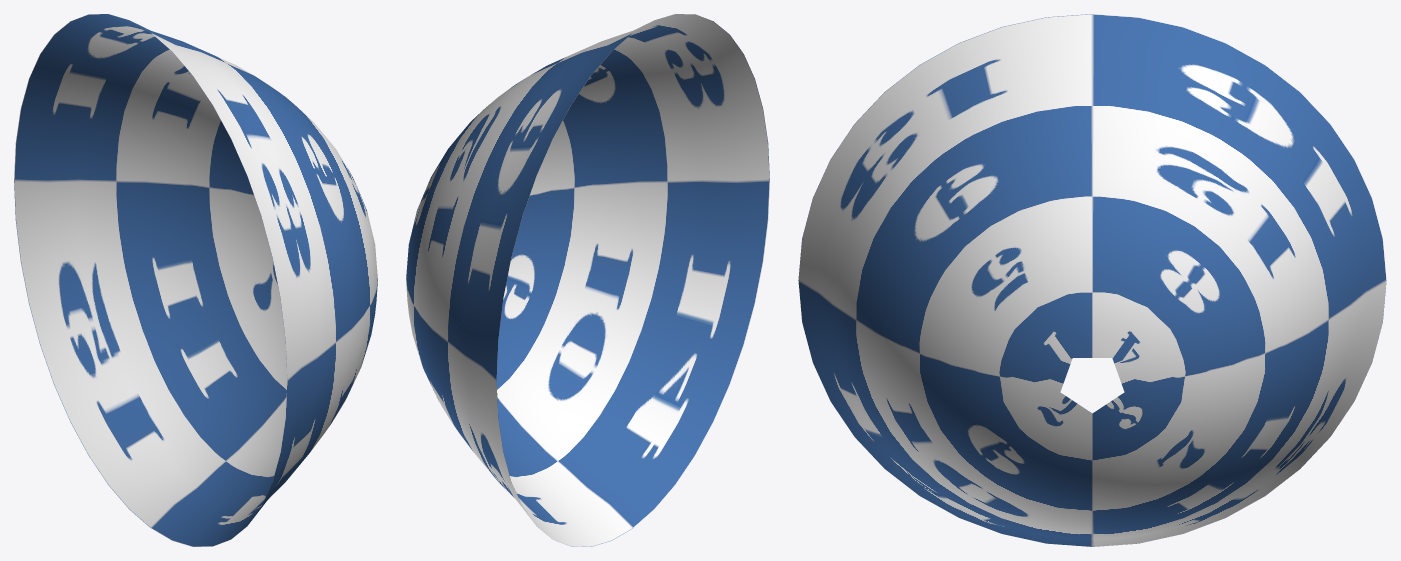
Rendered from Akaza_Wind4.fbx.
3 views of the same model, side by side, from view 1: azimuth 30°, elevation 25°; view 2: azimuth 150°, elevation 25°; view 3: azimuth 270°, elevation 25° (orthographic). The views are drawn at different scales.
Parts seen in each view (by area): view 1: SM_e_Plc_P1012_Wind004; view 2: SM_e_Plc_P1012_Wind004; view 3: SM_e_Plc_P1012_Wind004.
Boxes of the visible parts, x1=… form: SM_e_Plc_P1012_Wind004: x1=14, y1=14, x2=377, y2=546; SM_e_Plc_P1012_Wind004: x1=406, y1=14, x2=769, y2=546; SM_e_Plc_P1012_Wind004: x1=798, y1=14, x2=1386, y2=546.
Bounding box in the file's own units: 126 × 305 × 305.
